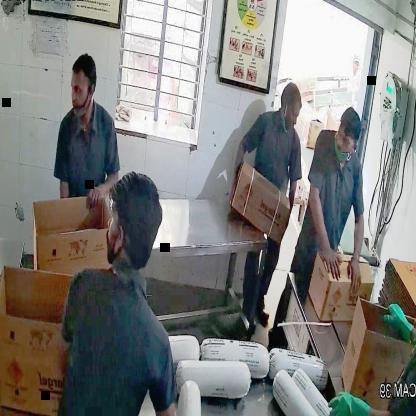no_goggles: (67, 73, 100, 105), (335, 122, 362, 152)
